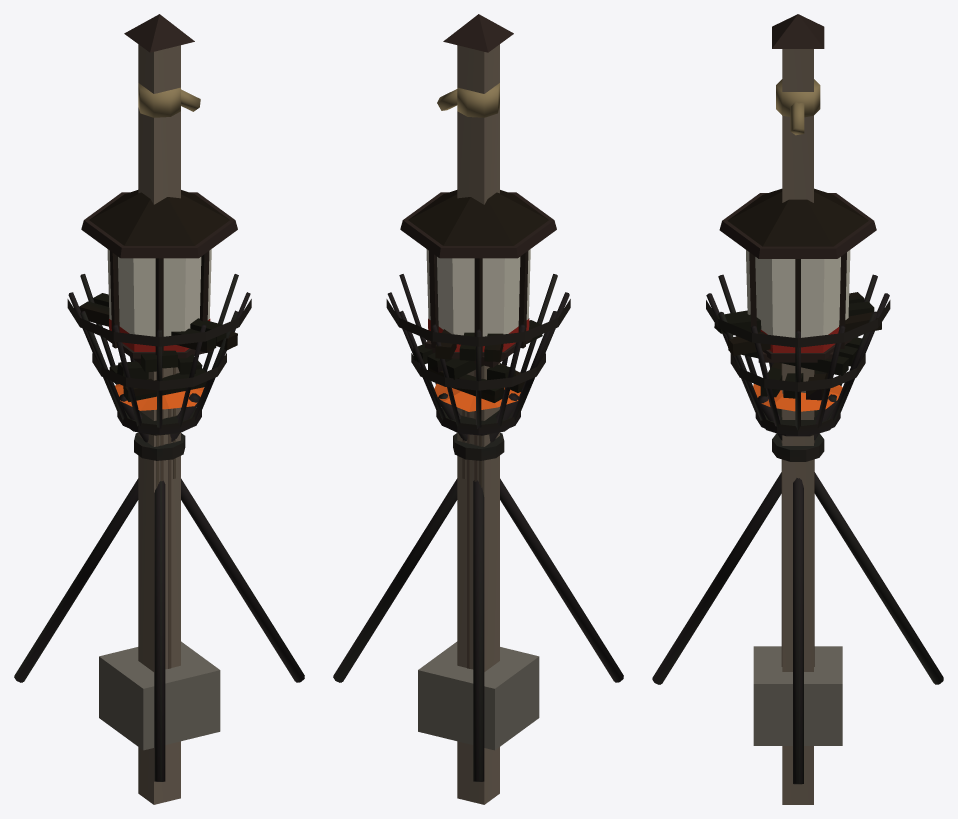
The model's file is lamps.glb.
The picture shows the model from 3 angles, left to right: view 1: azimuth 30°, elevation 25°; view 2: azimuth 150°, elevation 25°; view 3: azimuth 270°, elevation 25°; orthographic projection.
Parts seen in each view (by area): view 1: bonbori, kagaribi, post_far, post, kagaribi_far; view 2: bonbori, kagaribi, post, post_far, kagaribi_far; view 3: bonbori, kagaribi, post_far, kagaribi_far, post.
Part boxes in pixels (bbox=[...]): bonbori: bbox=[81, 190, 237, 750]; kagaribi: bbox=[14, 274, 304, 781]; post_far: bbox=[138, 14, 194, 804]; post: bbox=[124, 14, 200, 804]; kagaribi_far: bbox=[14, 274, 304, 781]; bonbori: bbox=[400, 190, 556, 750]; kagaribi: bbox=[333, 274, 623, 781]; post: bbox=[437, 14, 513, 804]; post_far: bbox=[448, 14, 499, 804]; kagaribi_far: bbox=[333, 274, 623, 781]; bonbori: bbox=[719, 188, 876, 745]; kagaribi: bbox=[652, 274, 943, 784]; post_far: bbox=[772, 14, 824, 804]; kagaribi_far: bbox=[652, 274, 943, 784]; post: bbox=[772, 14, 824, 666].
Bounding box in the file's own units: 0.9907 × 3.3 × 1.11.
